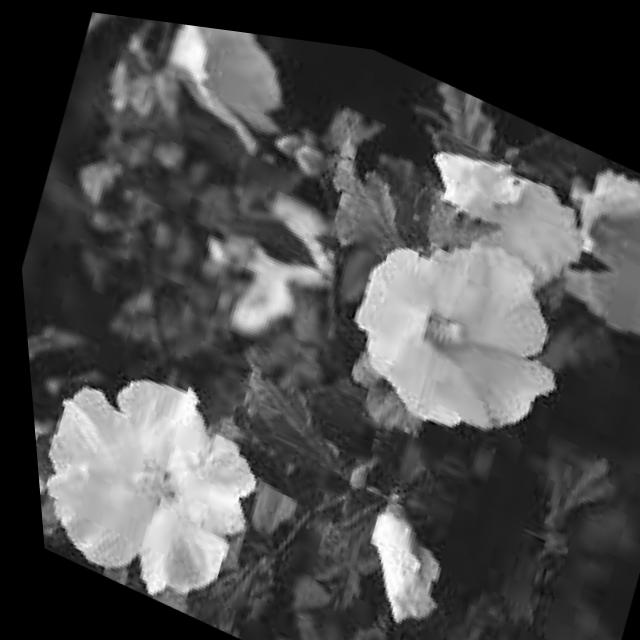Flower: (316, 184, 596, 461), (21, 334, 283, 618), (380, 92, 633, 318), (117, 12, 324, 160), (311, 465, 481, 640), (530, 132, 640, 349)
